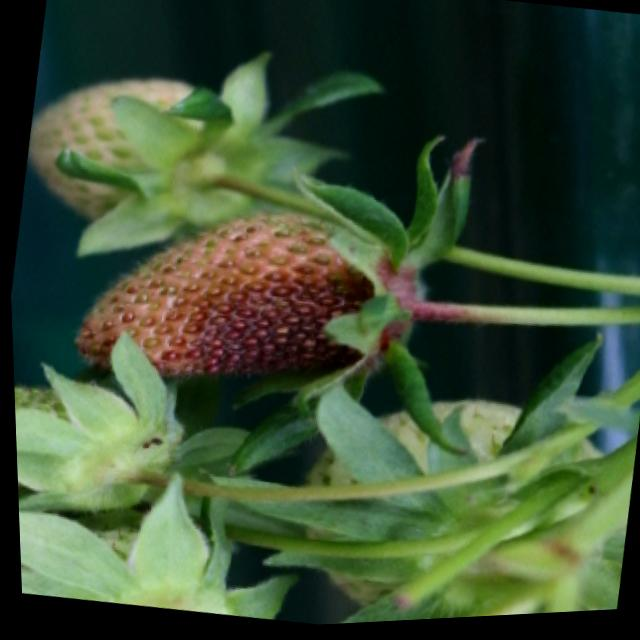Gray Mold: (72, 217, 460, 385)
